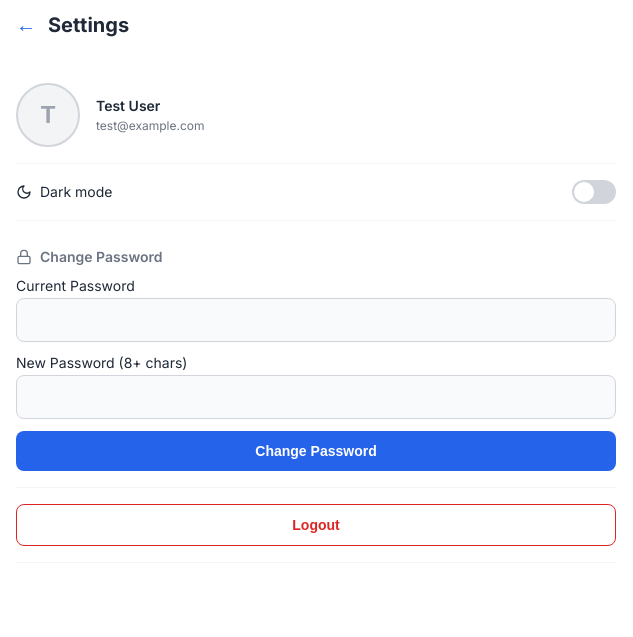
Test: SettingsPage › shows success message and clears form on password change
Type "current123" into the password field labelled "Current Password" at [316, 320], box [16,298,616,342]
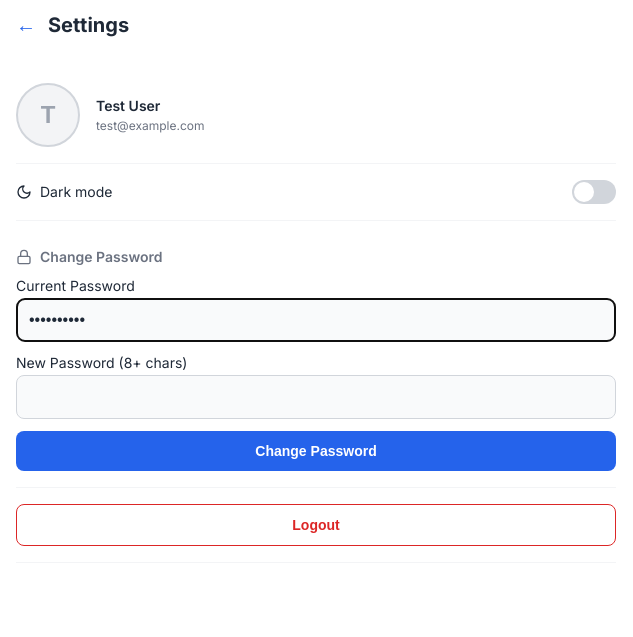
Type "newpassword" into the password field labelled "New Password (8+ chars)" at [316, 397], box [16,375,616,419]
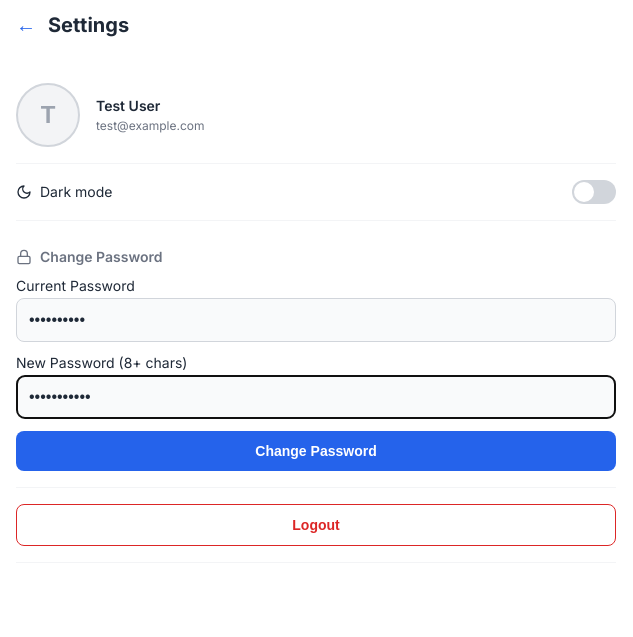
Click the button "Change Password" at [316, 451], box [16,431,616,471]
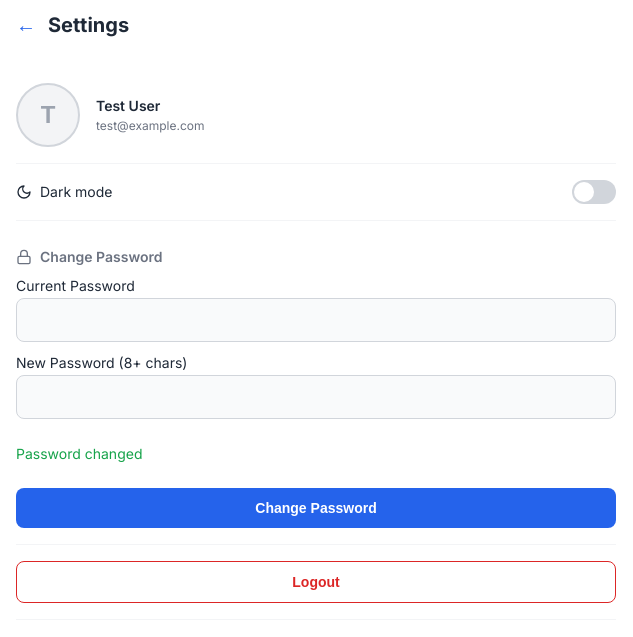
Expected: the text "Password changed" is shown, [16,445,142,462]
Expected: the password field labelled "Current Password" is empty, [16,298,616,342]
Expected: the password field labelled "New Password (8+ chars)" is empty, [16,375,616,419]
